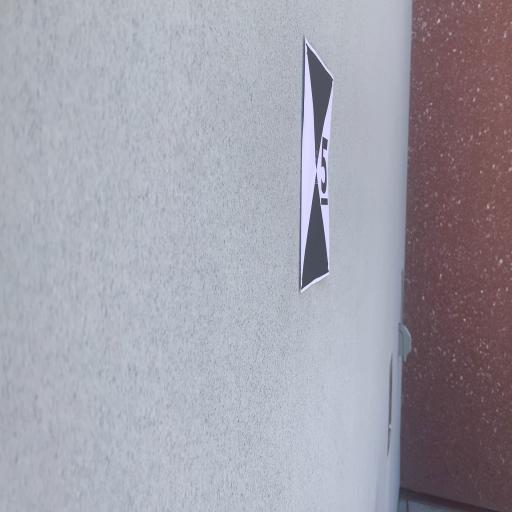target5: (302, 40, 336, 291)
